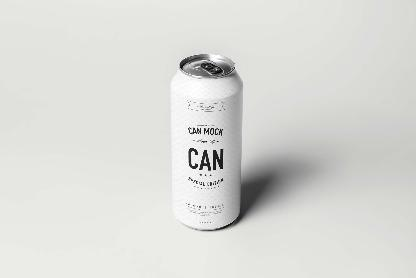Can: (171, 54, 243, 230)
